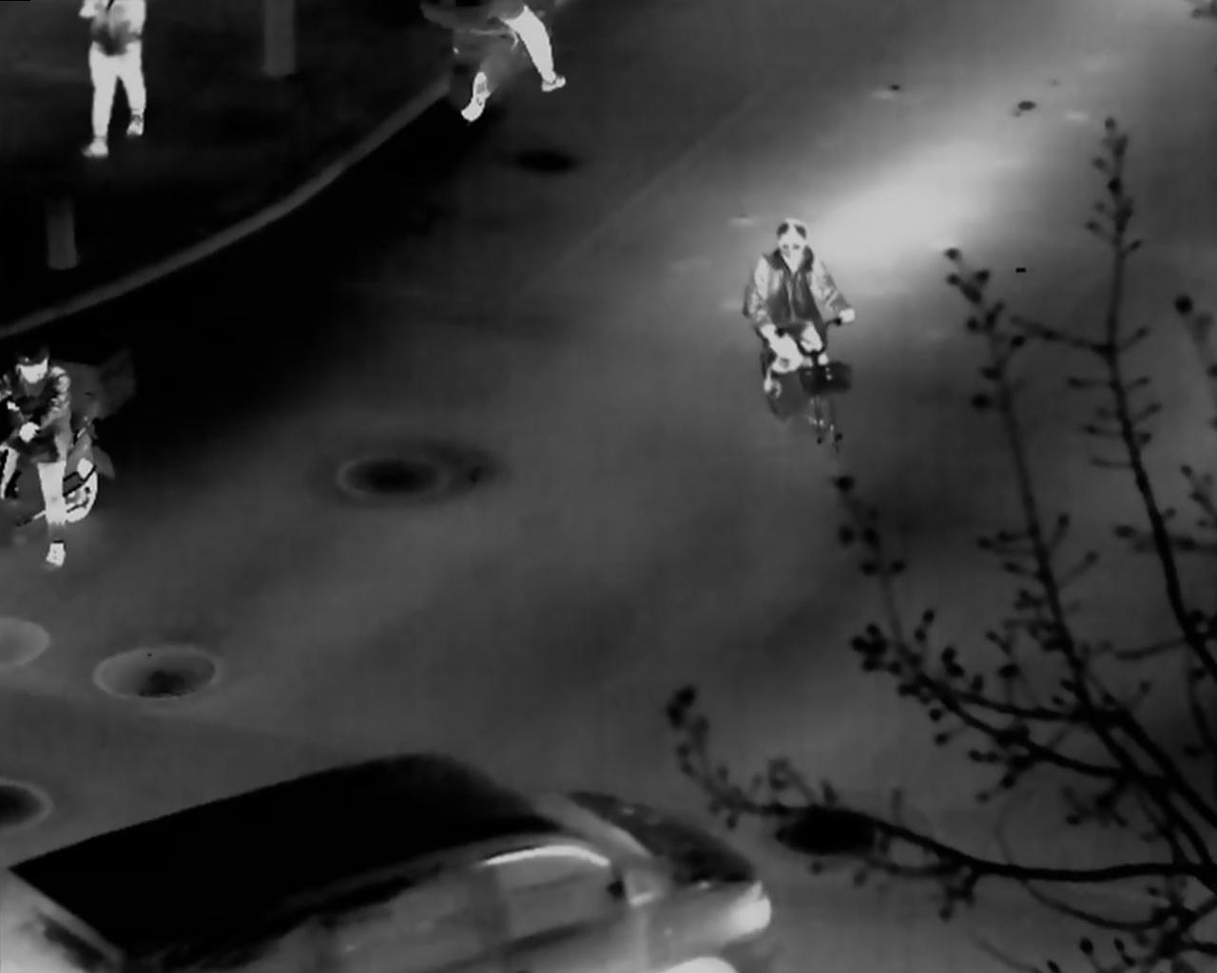person: (746, 219, 859, 398), (422, 2, 568, 93)
